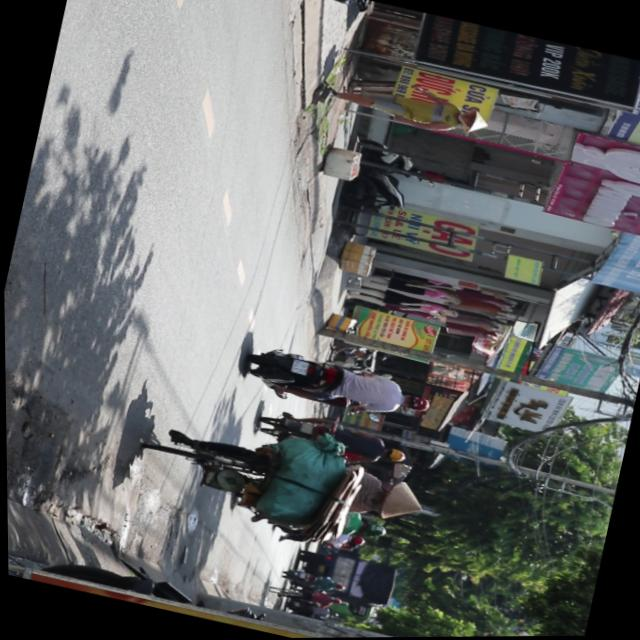helmet: (398, 391, 430, 413)
licenseplate: (236, 338, 436, 431)
nohelmet: (289, 358, 308, 375)
